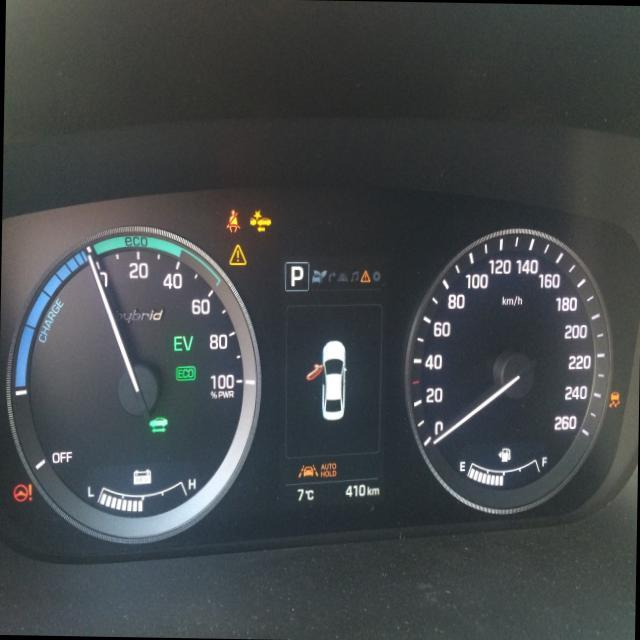Central Warning lamp: (228, 242, 246, 266)
